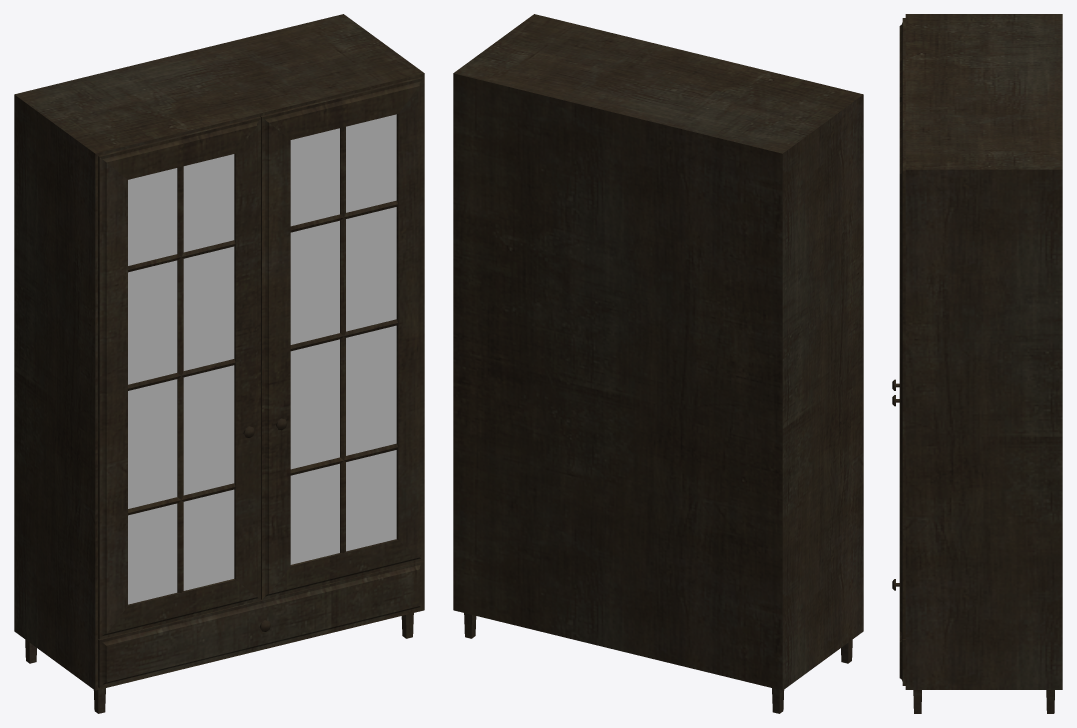
File: wardrobe_mp_2_4.obj
3 views of the same model, side by side, from view 1: azimuth 30°, elevation 25°; view 2: azimuth 150°, elevation 25°; view 3: azimuth 270°, elevation 25° (orthographic). The views are drawn at different scales.
Parts seen in each view (by area): view 1: wardrobe_mp_2_4_door_1, wardrobe_mp_2_4_door_2, wardrobe_mp_2_4, wardrobe_mp_2_4_drawer; view 2: wardrobe_mp_2_4; view 3: wardrobe_mp_2_4, wardrobe_mp_2_4_door_2, wardrobe_mp_2_4_door_1, wardrobe_mp_2_4_drawer.
Boxes of the visible parts, bbox=[...] form: wardrobe_mp_2_4_door_1: bbox=[98, 116, 260, 639]; wardrobe_mp_2_4_door_2: bbox=[260, 77, 423, 599]; wardrobe_mp_2_4: bbox=[14, 14, 424, 713]; wardrobe_mp_2_4_drawer: bbox=[98, 561, 423, 688]; wardrobe_mp_2_4: bbox=[453, 14, 863, 713]; wardrobe_mp_2_4: bbox=[905, 14, 1062, 713]; wardrobe_mp_2_4_door_2: bbox=[892, 95, 905, 638]; wardrobe_mp_2_4_door_1: bbox=[892, 18, 905, 390]; wardrobe_mp_2_4_drawer: bbox=[892, 579, 905, 685].
Size of the model in its own units: 1.22 by 2 by 0.5645.
